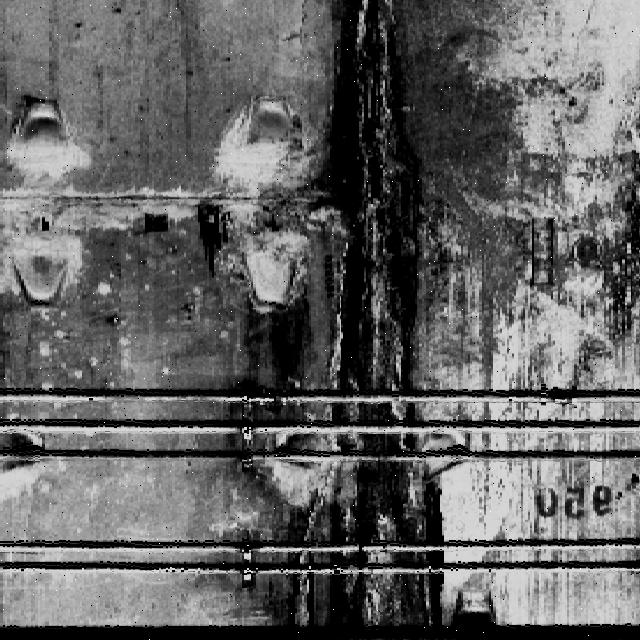leakage: (227, 0, 485, 625)
